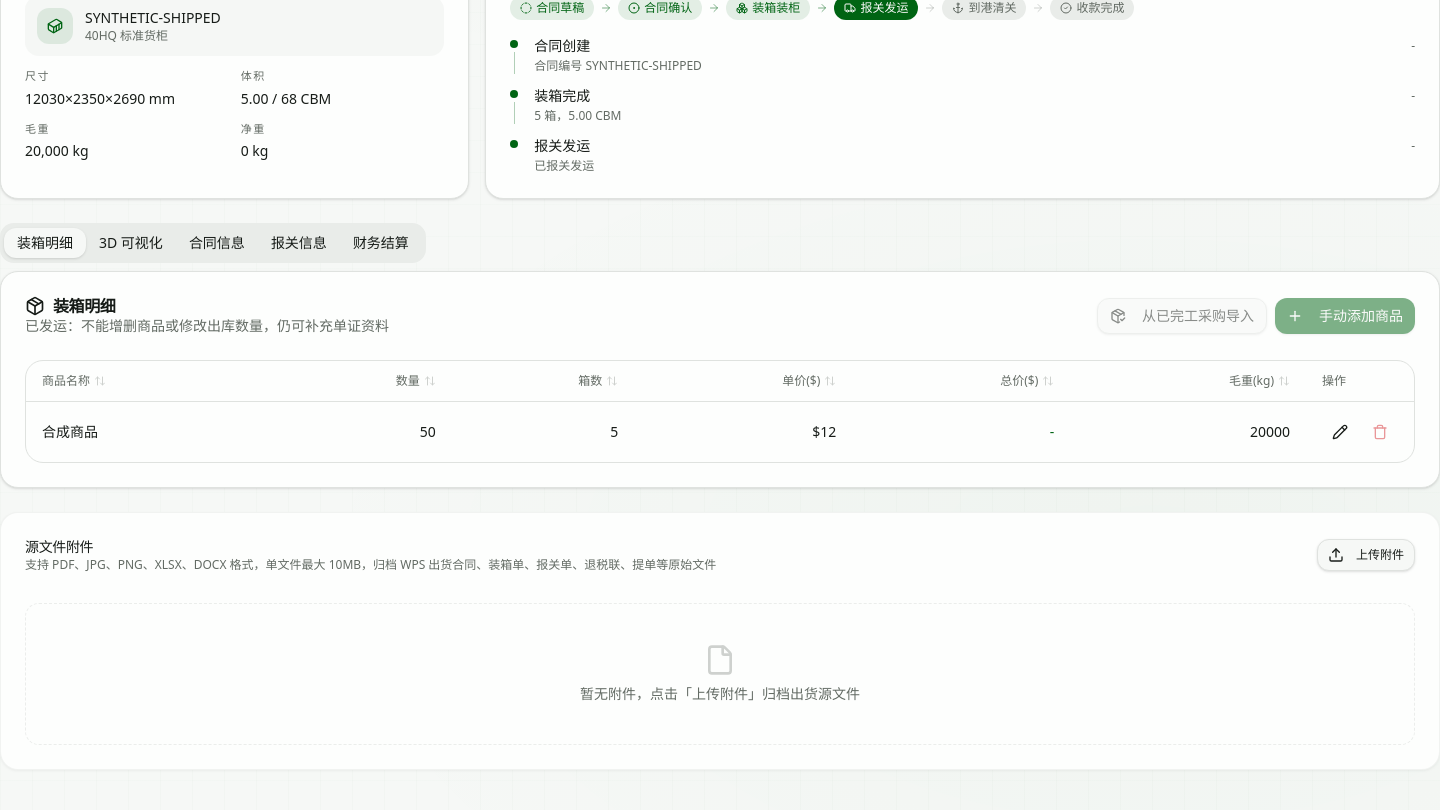
it: SalesDetailPage 交互逻辑 › 发运后保留资料编辑并锁定增删与数量（手机：false）
The image size is (1440, 810).
(page scrolled)
Check: the button "从已完工采购导入" is disabled, box [1097,298,1267,334]
Check: the button "手动添加商品" is disabled, box [1275,298,1415,334]
Step 1. Click the button named "编辑 合成商品" → (1340, 432), box [1322,414,1358,450]
(page scrolled)
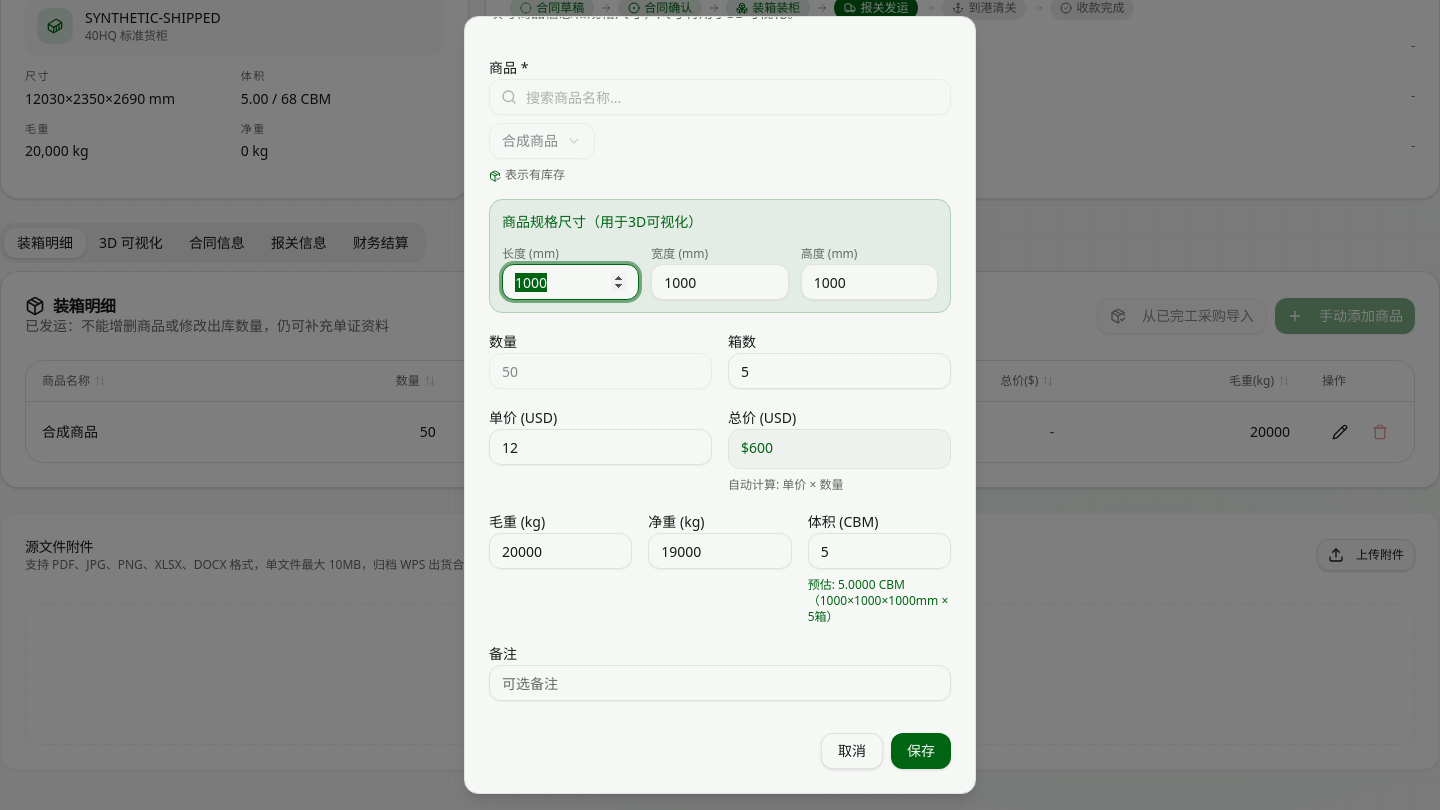
Check: the number field named "数量" is disabled, box [489,353,712,389]
Check: the number field named "单价" is enabled, box [489,429,712,465]
Check: the number field named "长度" is enabled, box [502,264,639,300]
关闭后不遗留编辑弹层，重新打开仍然保持货物锁定。
Step 2. Click the button "取消" → (852, 751), box [821,733,883,769]
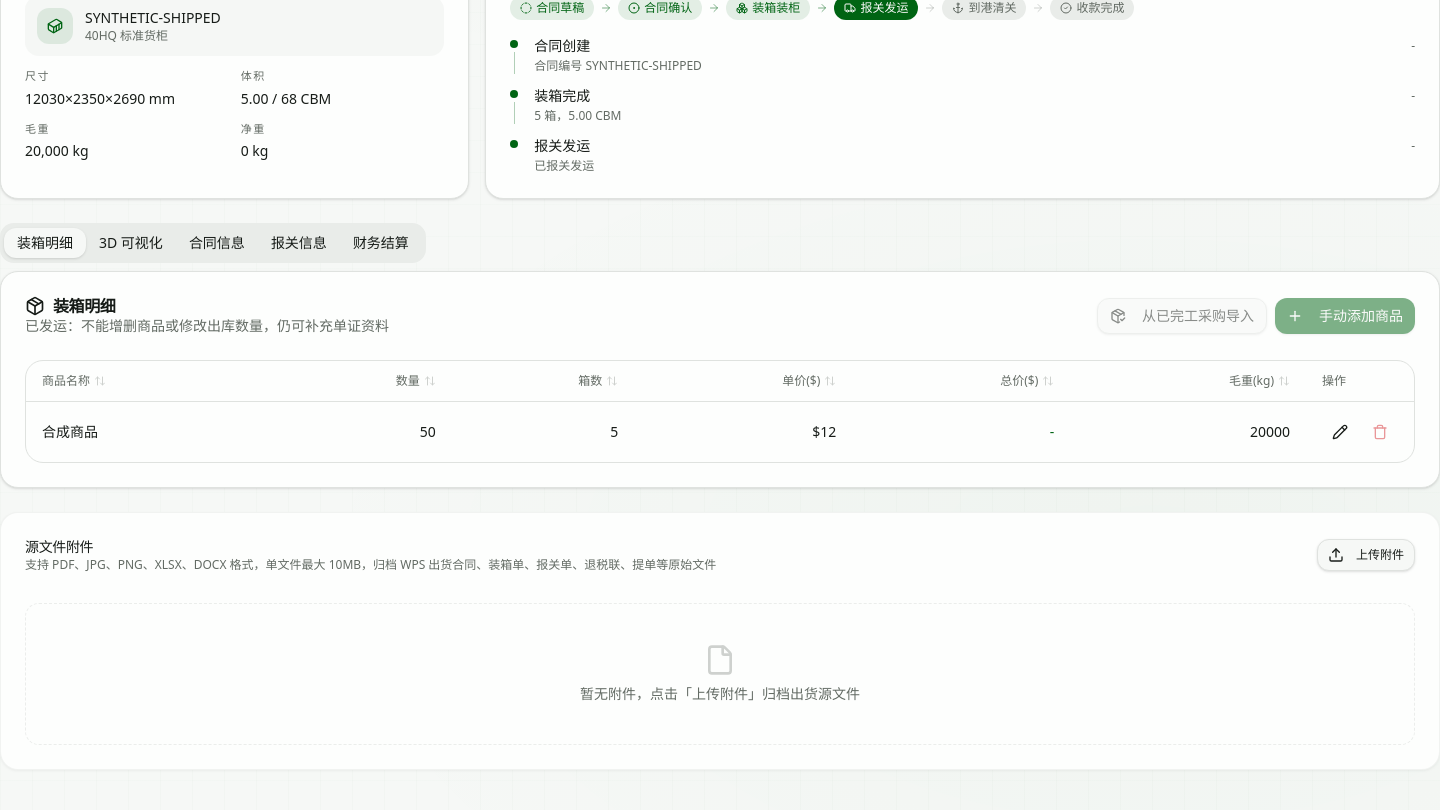
Check: the dialog is gone
Step 3. Click the button named "编辑 合成商品" → (1340, 432), box [1322,414,1358,450]
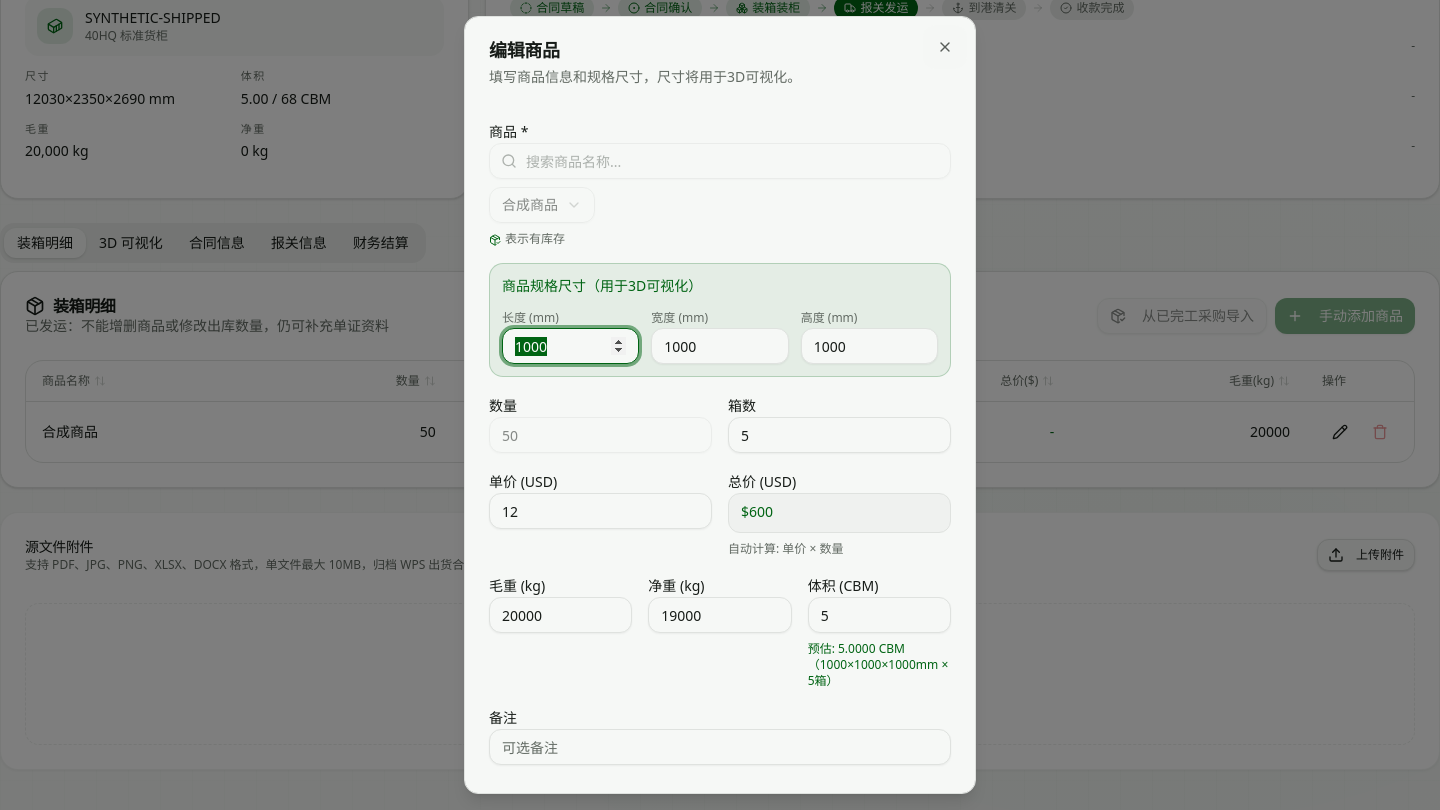
Check: the number field named "数量" is disabled, box [489,417,712,453]
